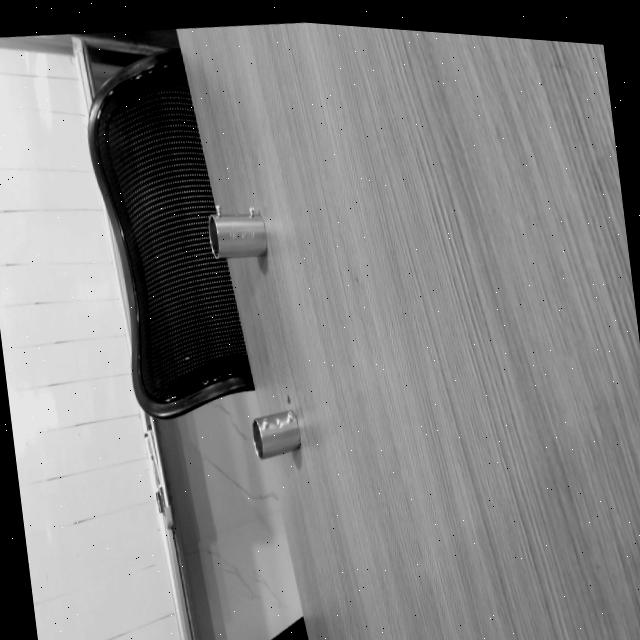Co_Lon: (207, 203, 266, 257)
Co_Nho: (246, 407, 304, 461)
